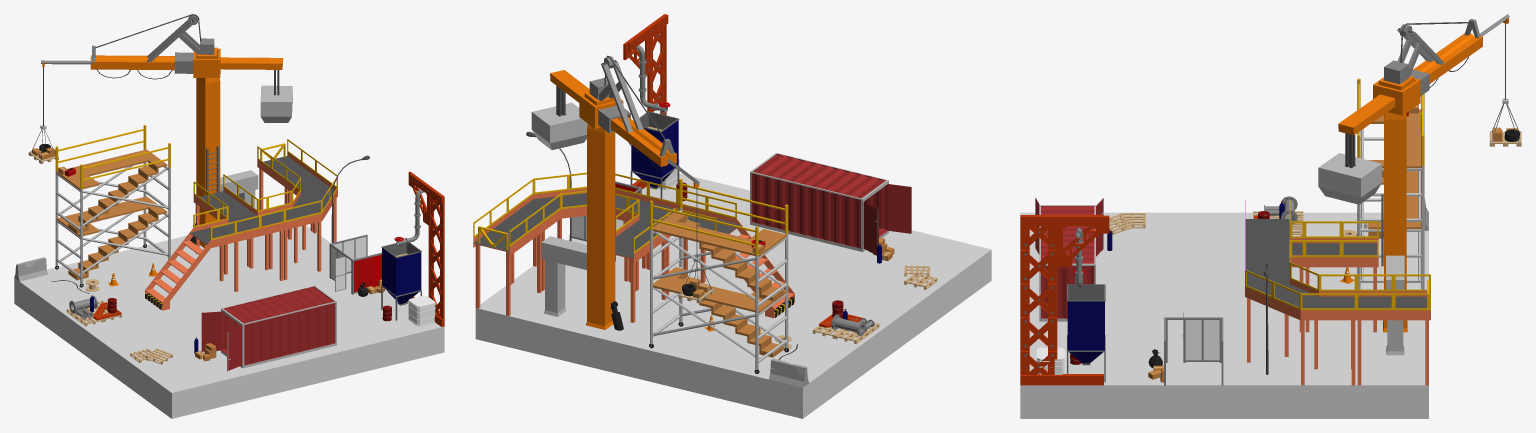
File: Industrial.fbx
3 renders of one model, left to right at view 1: azimuth 30°, elevation 25°; view 2: azimuth 150°, elevation 25°; view 3: azimuth 270°, elevation 25°, orthographic. The views are drawn at different scales.
Visible parts, largest first — view 1: Cube, Prop_Junk_Cargo_Shipping_Container_01, Prop_Industrial_Crane_Assembly_01, Prop_Industrial_Crane_Base_01, Prop_Industrial_Platform_Walkway_Narrow_Bend_01, Prop_Industrial_Platform_Walkway_Narrow_Intersection_01, Prop_Industrial_Platform_Walkway_Narrow_Steps_w_Platform_04, Prop_Industrial_Vat_Tank_Square_02, Scaffold_Brace_Bearer_Metal_01, Scaffold_Brace_Bearer_Metal_01 (1), Prop_Industrial_Platform_Walkway_Narrow_Straight_01 (1), Prop_Industrial_Platform_Walkway_Narrow_Straight_01 (+14 smaller); view 2: Cube, Prop_Junk_Cargo_Shipping_Container_01, Prop_Industrial_Crane_Base_01, Prop_Industrial_Crane_Assembly_01, Prop_Industrial_Platform_Walkway_Narrow_Bend_01, Prop_Industrial_Platform_Walkway_Narrow_Straight_01 (1), Scaffold_Brace_Bearer_Metal_01, Scaffold_Brace_Bearer_Metal_01 (1), Prop_Industrial_Platform_Walkway_Narrow_Intersection_01, Prop_Industrial_Vat_Tank_Square_02, Prop_Industrial_Platform_Walkway_Narrow_Straight_01, Scaffold_Working_Platform_Wood_04 (1) (+10 smaller); view 3: Cube, Prop_Industrial_Crane_Assembly_01, Prop_Industrial_Platform_Walkway_Narrow_Bend_01, Prop_Industrial_Crane_Base_01, Prop_Industrial_Platform_Walkway_Narrow_Straight_01 (1), Prop_Industrial_Platform_Walkway_Narrow_Straight_01, Prop_Industrial_Vat_Tank_Square_02, Prop_Junk_Cargo_Shipping_Container_01, Prop_Industrial_Platform_Walkway_Narrow_Intersection_01, Prop_Industrial_Temporary_Lab_Office_Wall_Door_Frame_02, Prop_Industrial_Beams_Brace_Half_01, Scaffold_Brace_Bearer_Metal_01 (1) (+10 smaller).
Boxes of the visible parts, bbox=[...] form: Cube: bbox=[14, 225, 444, 418]; Prop_Junk_Cargo_Shipping_Container_01: bbox=[221, 285, 336, 368]; Prop_Industrial_Crane_Assembly_01: bbox=[41, 14, 292, 122]; Prop_Industrial_Crane_Base_01: bbox=[196, 78, 258, 247]; Prop_Industrial_Platform_Walkway_Narrow_Bend_01: bbox=[267, 160, 337, 279]; Prop_Industrial_Platform_Walkway_Narrow_Intersection_01: bbox=[218, 195, 284, 291]; Prop_Industrial_Platform_Walkway_Narrow_Steps_w_Platform_04: bbox=[145, 208, 235, 310]; Prop_Industrial_Vat_Tank_Square_02: bbox=[381, 242, 421, 320]; Scaffold_Brace_Bearer_Metal_01: bbox=[55, 196, 170, 283]; Scaffold_Brace_Bearer_Metal_01 (1): bbox=[55, 149, 170, 235]; Prop_Industrial_Platform_Walkway_Narrow_Straight_01 (1): bbox=[257, 139, 315, 237]; Prop_Industrial_Platform_Walkway_Narrow_Straight_01: bbox=[193, 174, 251, 272]; Cube: bbox=[475, 173, 991, 418]; Prop_Junk_Cargo_Shipping_Container_01: bbox=[750, 153, 888, 251]; Prop_Industrial_Crane_Base_01: bbox=[541, 124, 615, 329]; Prop_Industrial_Crane_Assembly_01: bbox=[531, 55, 699, 187]; Prop_Industrial_Platform_Walkway_Narrow_Bend_01: bbox=[508, 172, 647, 290]; Prop_Industrial_Platform_Walkway_Narrow_Straight_01 (1): bbox=[473, 197, 543, 315]; Scaffold_Brace_Bearer_Metal_01: bbox=[650, 264, 788, 368]; Scaffold_Brace_Bearer_Metal_01 (1): bbox=[650, 208, 788, 312]; Prop_Industrial_Platform_Walkway_Narrow_Intersection_01: bbox=[627, 181, 706, 297]; Prop_Industrial_Vat_Tank_Square_02: bbox=[630, 111, 679, 198]; Prop_Industrial_Platform_Walkway_Narrow_Straight_01: bbox=[616, 204, 668, 322]; Scaffold_Working_Platform_Wood_04 (1): bbox=[653, 218, 786, 256]; Cube: bbox=[1020, 212, 1428, 418]; Prop_Industrial_Crane_Assembly_01: bbox=[1318, 14, 1509, 204]; Prop_Industrial_Platform_Walkway_Narrow_Bend_01: bbox=[1245, 246, 1356, 385]; Prop_Industrial_Crane_Base_01: bbox=[1383, 112, 1407, 355]; Prop_Industrial_Platform_Walkway_Narrow_Straight_01 (1): bbox=[1356, 274, 1430, 385]; Prop_Industrial_Platform_Walkway_Narrow_Straight_01: bbox=[1304, 221, 1378, 332]; Prop_Industrial_Vat_Tank_Square_02: bbox=[1067, 284, 1105, 382]; Prop_Junk_Cargo_Shipping_Container_01: bbox=[1039, 205, 1095, 321]; Prop_Industrial_Platform_Walkway_Narrow_Intersection_01: bbox=[1245, 215, 1304, 332]; Prop_Industrial_Temporary_Lab_Office_Wall_Door_Frame_02: bbox=[1166, 317, 1221, 362]; Prop_Industrial_Beams_Brace_Half_01: bbox=[1053, 215, 1109, 267]; Scaffold_Brace_Bearer_Metal_01 (1): bbox=[1357, 110, 1424, 227].
Size of the model in its own units: 23.62 by 19.61 by 26.99.
